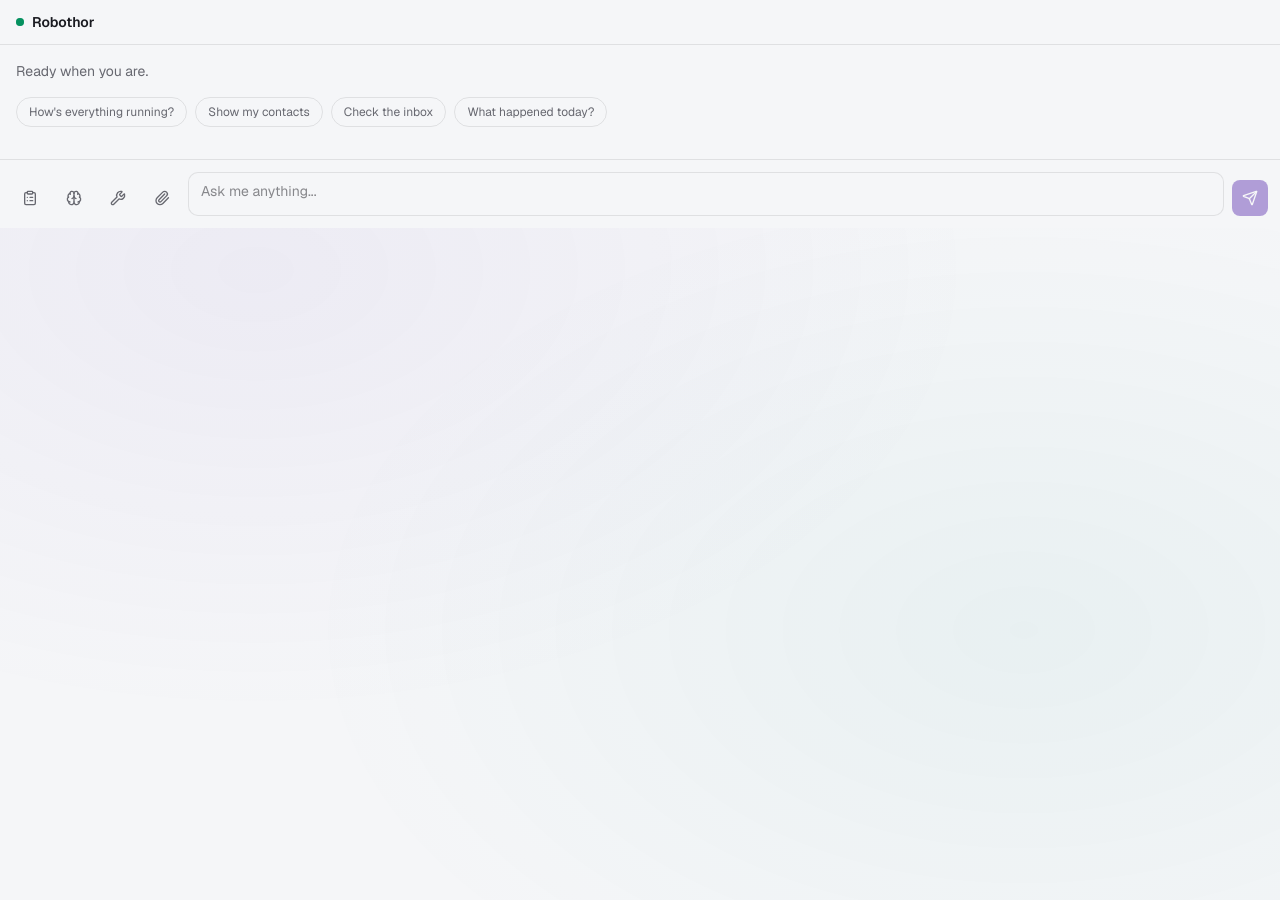
Test case: ChatPanel — Plan Mode › plan mode routes message to /api/chat/plan/start
// Enable plan mode
Click the button with test id "plan-toggle": (30, 198) [12,180,48,216]
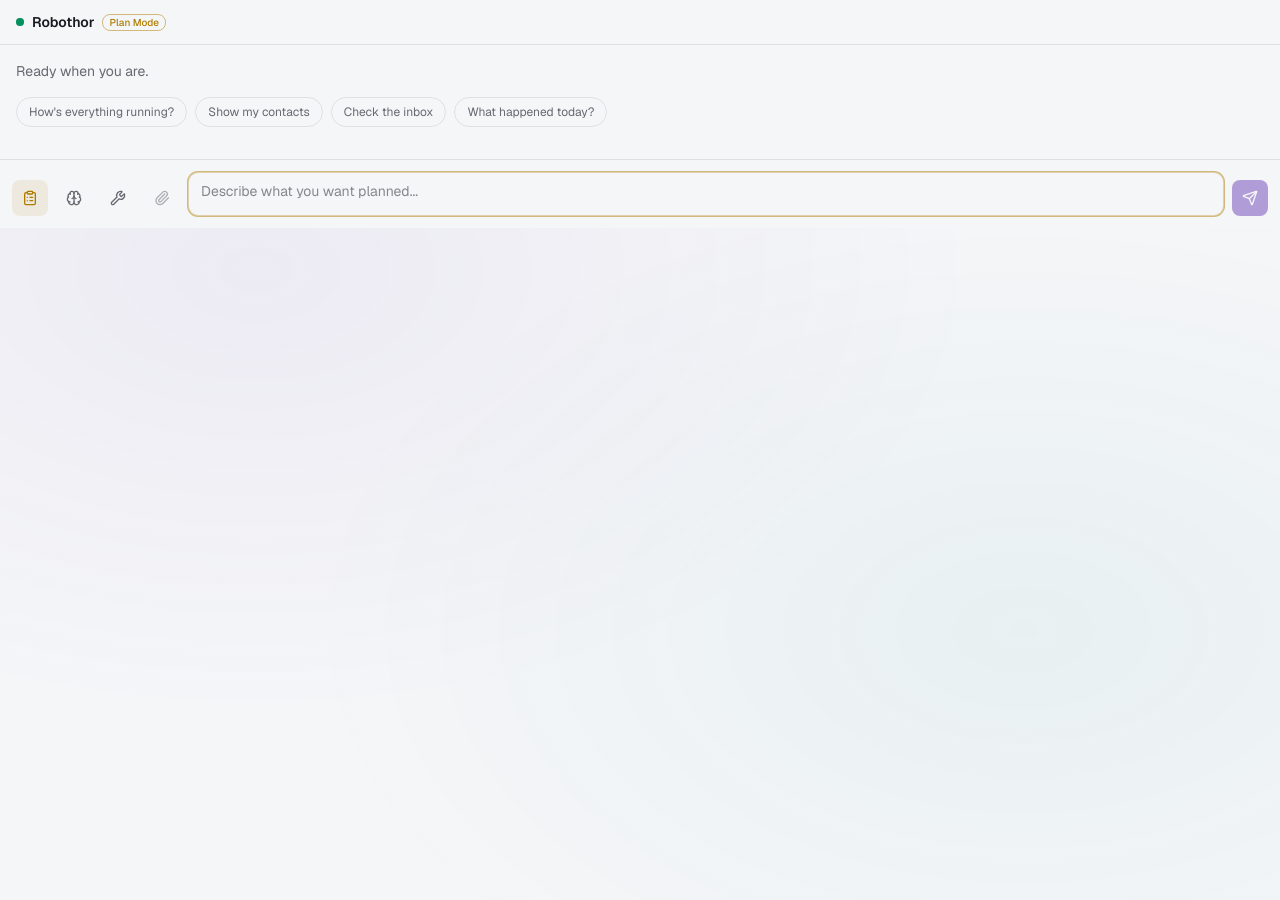
// Type and send
In the text box with test id "chat-input": (706, 194) [188,172,1224,216], type "check email"
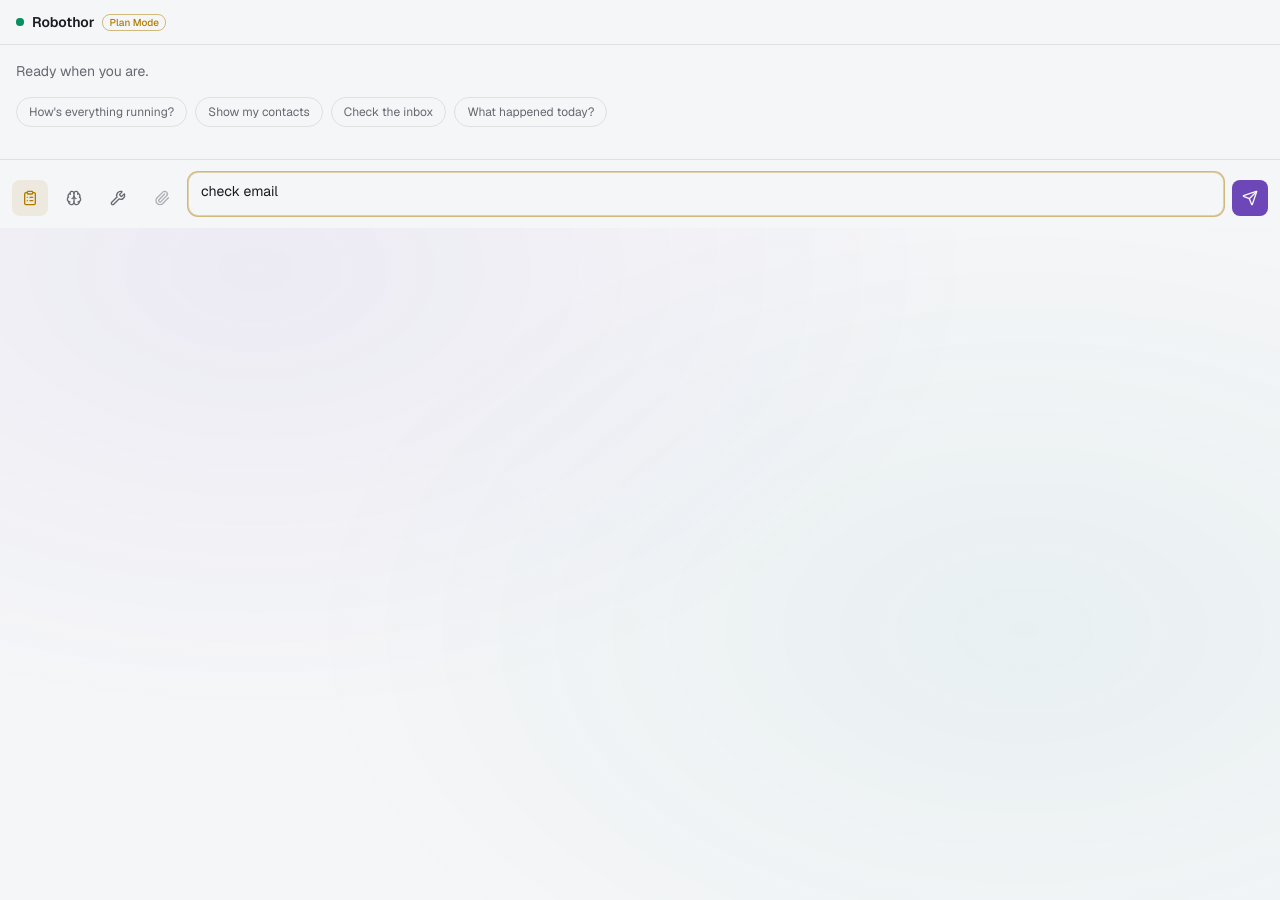
Click the button with test id "send-button": (1250, 198) [1232,180,1268,216]
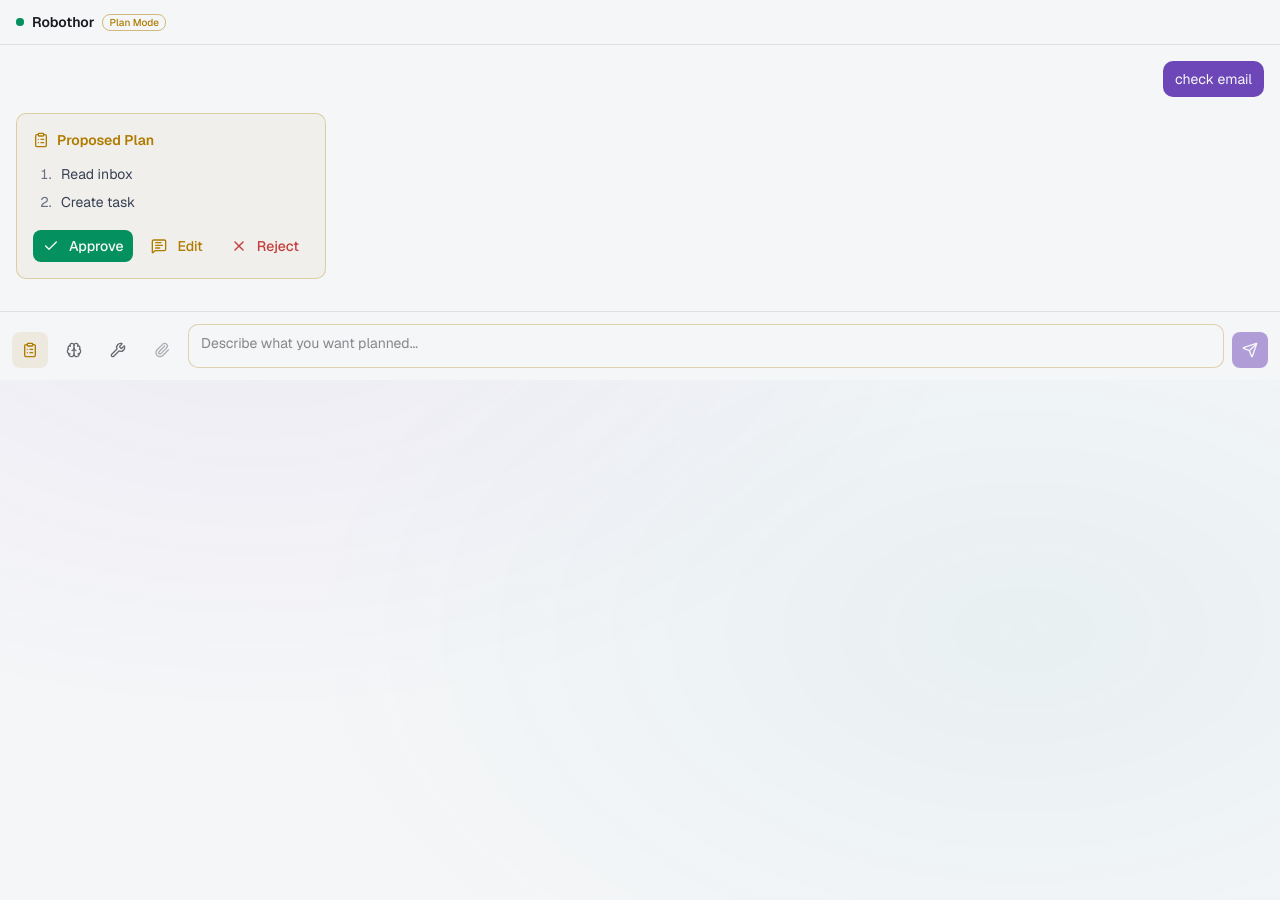
expect the text "check email" is shown: met, box [1175,69,1252,89]
expect the element with test id "plan-card" is shown: met, box [16,113,326,279]
